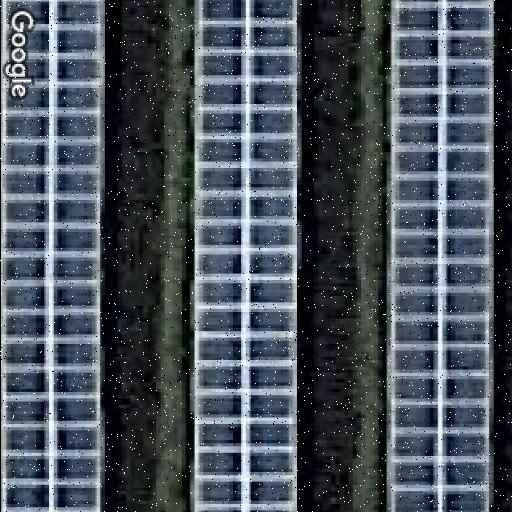solar-panel: (378, 0, 494, 512), (192, 0, 299, 512), (0, 0, 104, 512)
